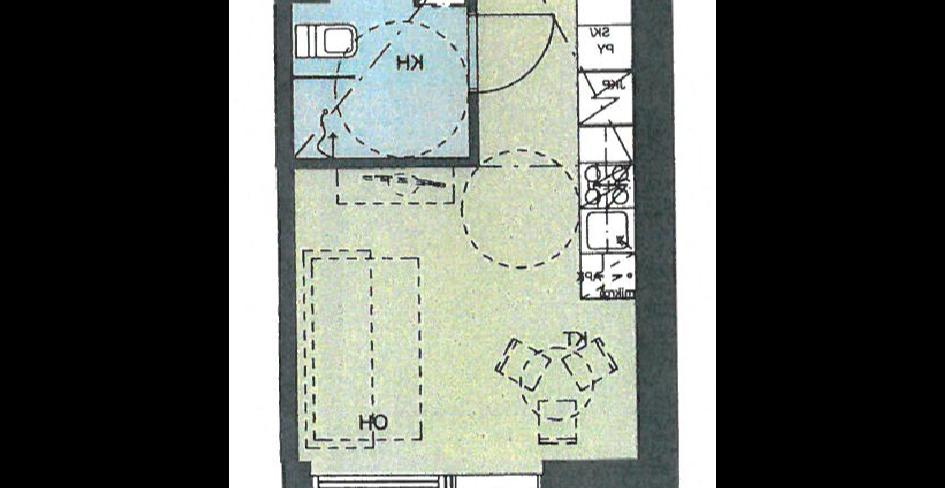bathroom: (291, 0, 470, 156)
door: (470, 4, 562, 96)
perimeter: (277, 0, 677, 488)
window: (304, 470, 458, 488)
